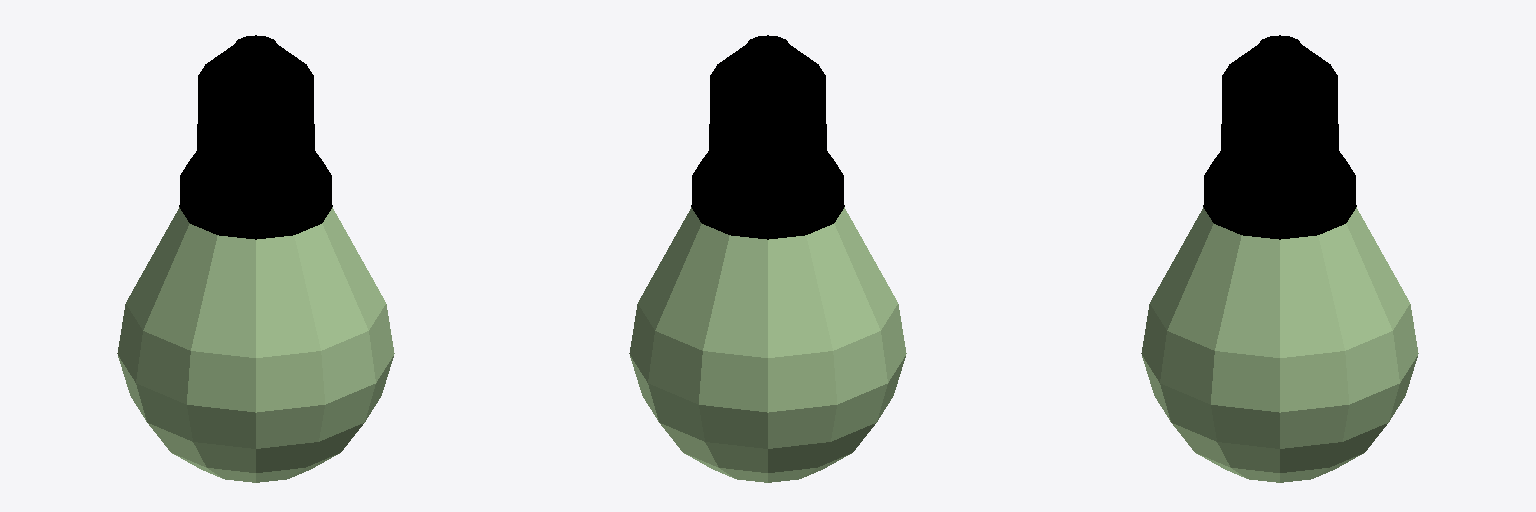
File: LampBulb.obj
3 renders of one model, left to right at view 1: azimuth 30°, elevation 25°; view 2: azimuth 150°, elevation 25°; view 3: azimuth 270°, elevation 25°, orthographic.
Visible parts, largest first — view 1: Plane; view 2: Plane; view 3: Plane.
Part boxes in pixels (x1,y1,x2,y2): Plane: (117,35,394,482); Plane: (629,35,906,482); Plane: (1141,35,1418,482).
Bounding box in the file's own units: 2.93 × 4.98 × 2.93.